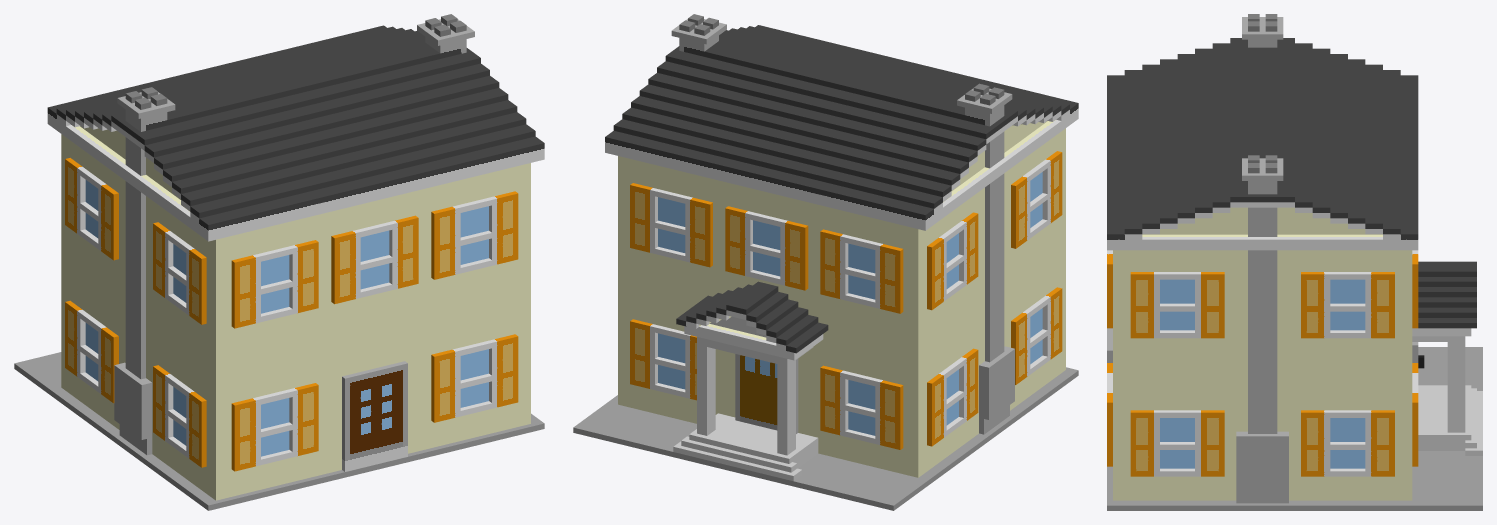
Rendered from obj_house4a.fbx.
The picture shows the model from 3 angles, left to right: view 1: azimuth 30°, elevation 25°; view 2: azimuth 150°, elevation 25°; view 3: azimuth 270°, elevation 25°; orthographic projection. The views are drawn at different scales.
Visible parts, largest first — view 1: obj_house4a; view 2: obj_house4a; view 3: obj_house4a.
Part boxes in pixels (bbox=[...]): obj_house4a: bbox=[14, 14, 544, 510]; obj_house4a: bbox=[573, 14, 1078, 510]; obj_house4a: bbox=[1107, 14, 1482, 510].
Bounding box in the file's own units: 6.4 × 6.4 × 6.4.
1 material, 1 textured.
